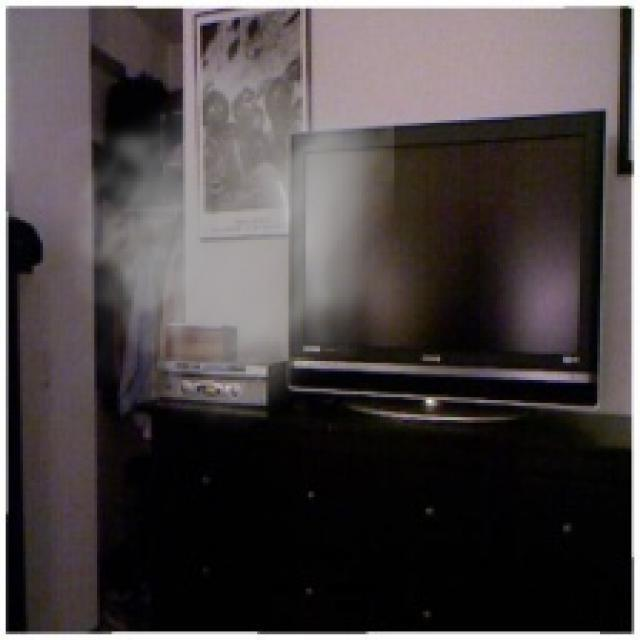Smoke: (34, 20, 394, 437)
